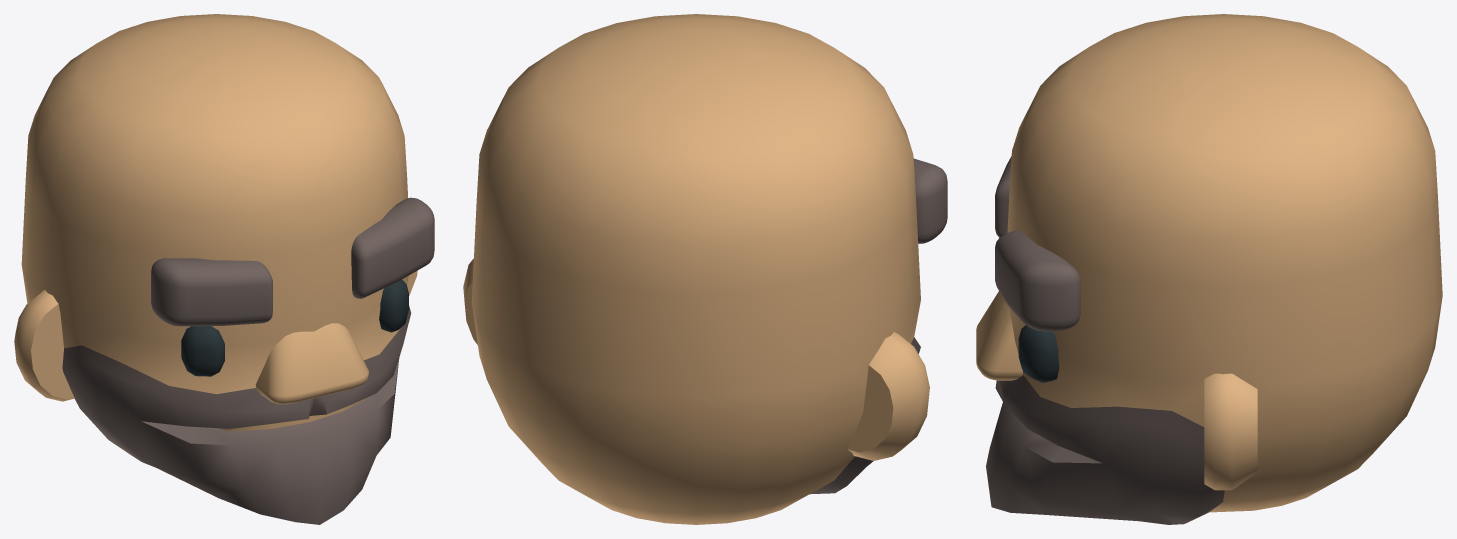
The model's file is kaykit-barbarianheadc.glb.
3 views of the same model, side by side, from view 1: azimuth 30°, elevation 25°; view 2: azimuth 150°, elevation 25°; view 3: azimuth 270°, elevation 25° (orthographic). The views are drawn at different scales.
Visible parts, largest first — view 1: barbarianHeadC; view 2: barbarianHeadC; view 3: barbarianHeadC.
Part boxes in pixels (<box>): barbarianHeadC: <box>14,14,434,524</box>; barbarianHeadC: <box>463,14,947,524</box>; barbarianHeadC: <box>976,14,1442,524</box>.
Bounding box in the file's own units: 1.18 × 1.14 × 1.06.
